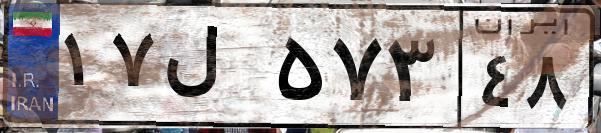1: (57, 26, 110, 100)
3: (385, 28, 445, 110)
4: (475, 38, 525, 113)
5: (270, 28, 330, 110)
7: (330, 28, 385, 110), (110, 28, 158, 98)
8: (525, 38, 570, 115)
ل: (158, 20, 270, 120)
